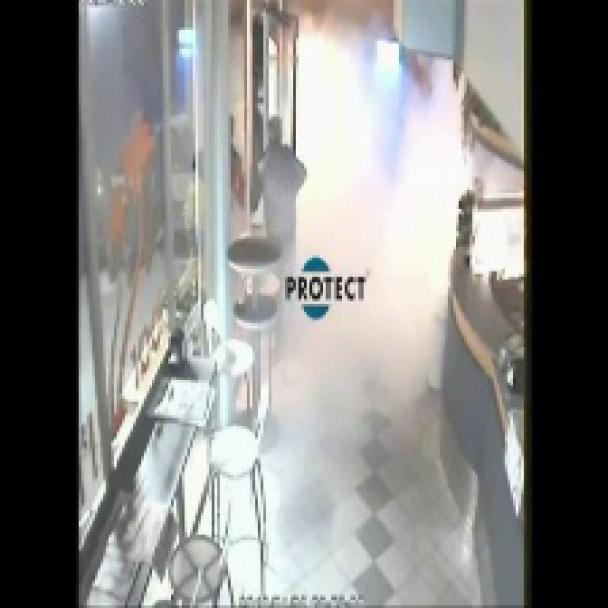smoke: (199, 12, 519, 428)
